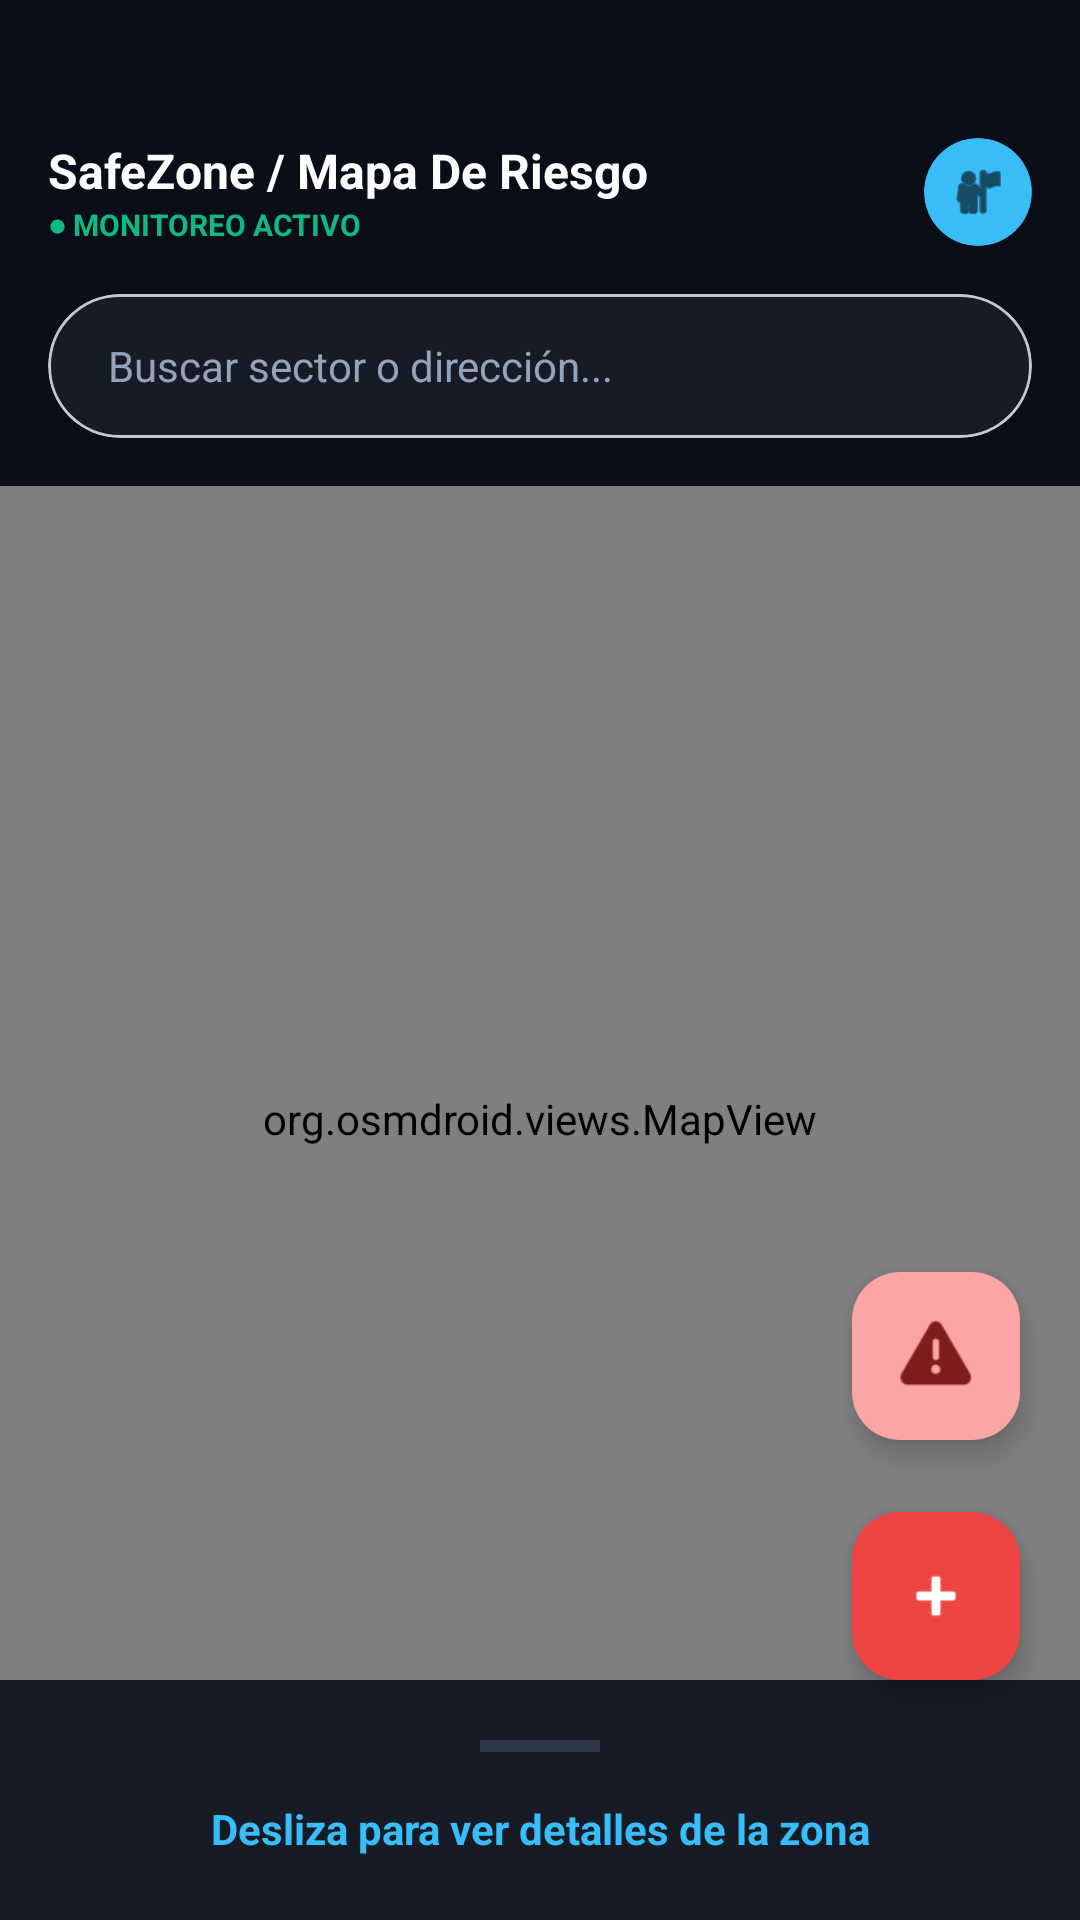

Icon bounding boxes for this 1080×1920 phone screenshot, format region(x1, y1, x2, y2):
add: region(852, 1512, 1020, 1680)
alert: region(852, 1272, 1020, 1440)
myplaces: region(924, 138, 1032, 246)
